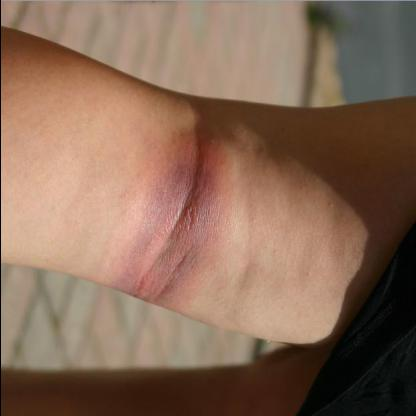Tick: (117, 124, 234, 300)
